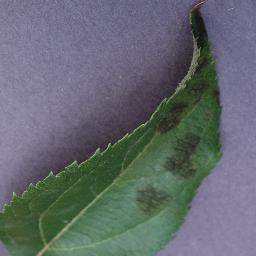apple healthy: (0, 0, 224, 255)
